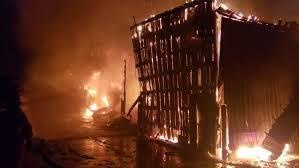fire: (78, 78, 112, 120)
